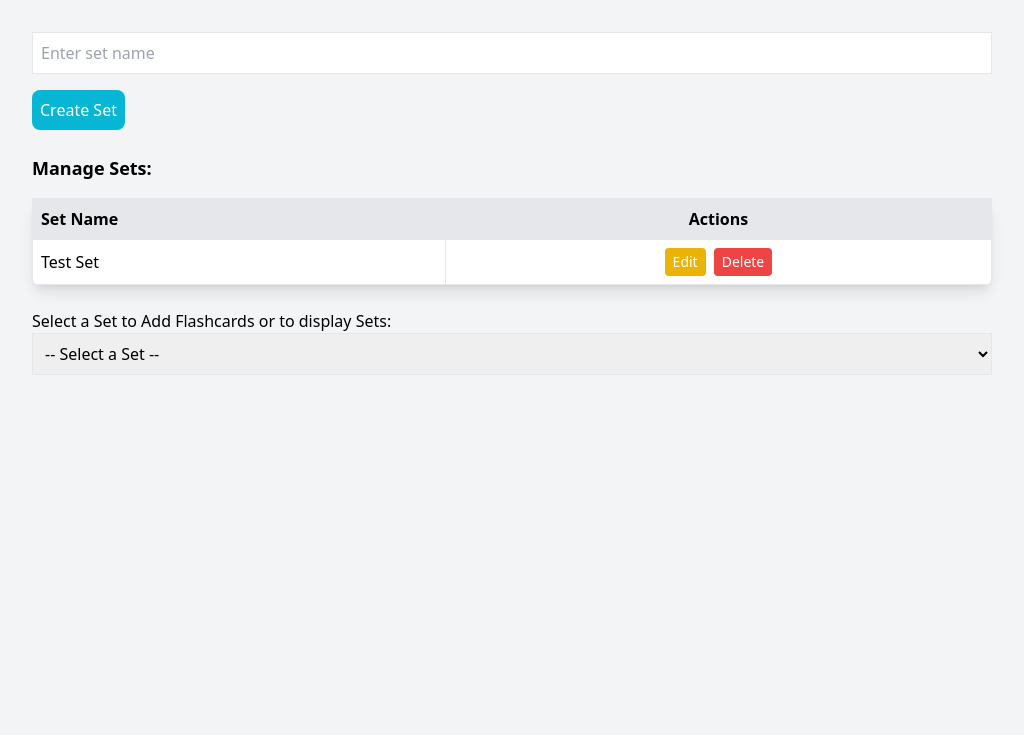
Scenario: FlashcardSetPage › fetches flashcards when a set is selected
Select "Test Set" in the dropdown at (512, 354), box [32, 333, 992, 375]
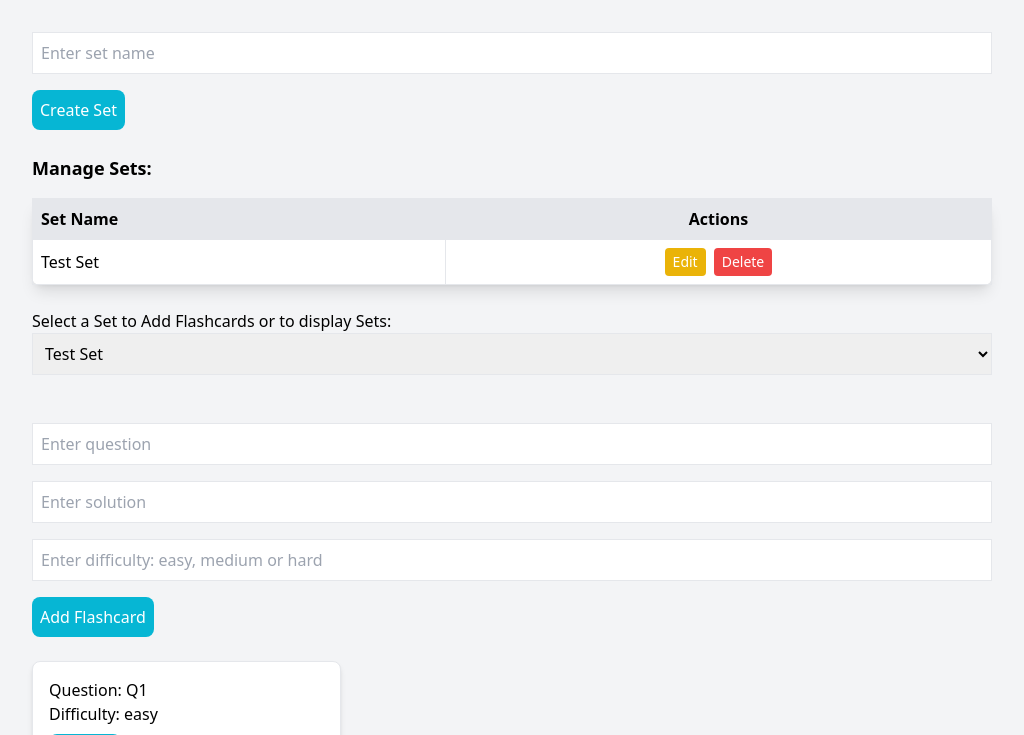
Expected: the text "Question: Q1" is shown, [49, 679, 148, 701]
